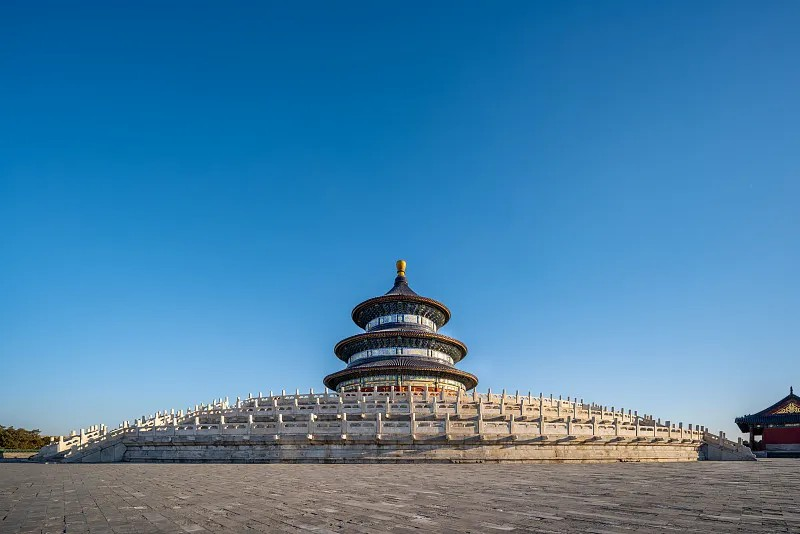Heaven: (322, 260, 479, 394)
